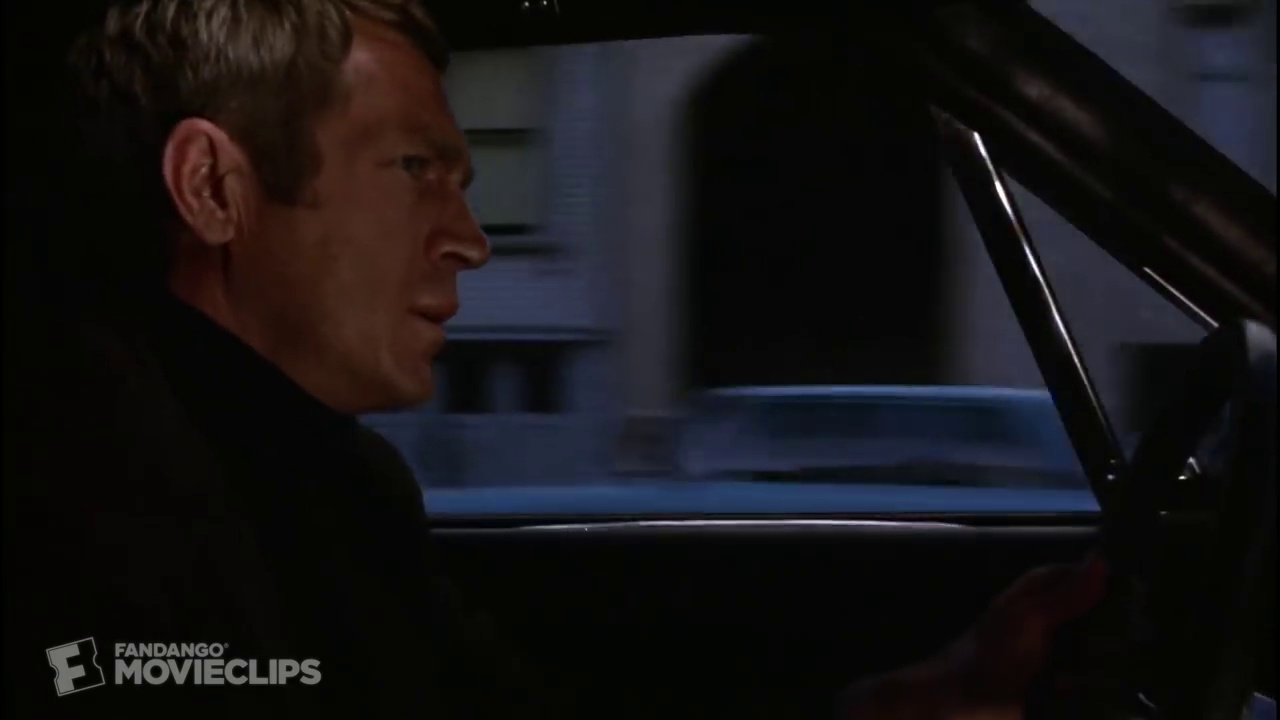car: (369, 364, 1151, 538)
person: (3, 2, 521, 523)
